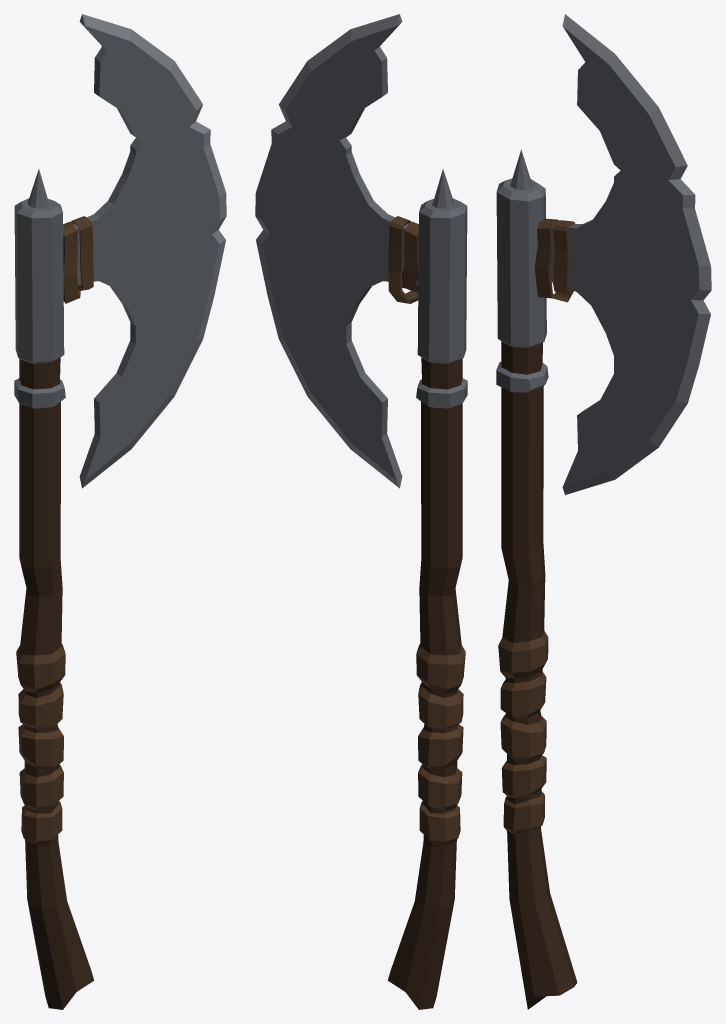
The model's file is axe.glb.
3 renders of one model, left to right at view 1: azimuth 30°, elevation 25°; view 2: azimuth 150°, elevation 25°; view 3: azimuth 330°, elevation 25°, orthographic.
Visible parts, largest first — view 1: Axe; view 2: Axe; view 3: Axe.
Boxes of the visible parts, x1,y1,x2,y2 form: Axe: [14, 14, 226, 1009]; Axe: [255, 14, 467, 1009]; Axe: [496, 14, 711, 1009].
Bounding box in the file's own units: 0.1781 × 0.8 × 0.0378.
